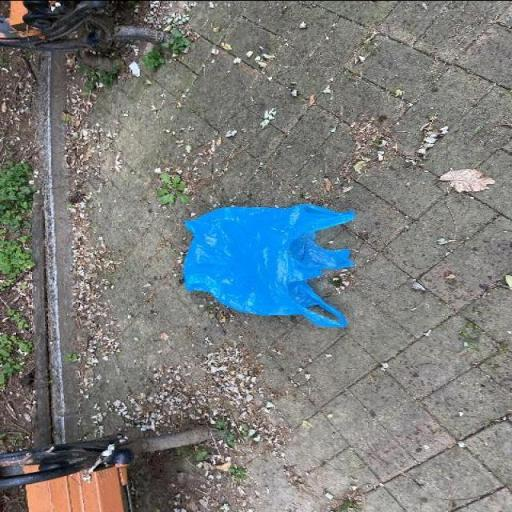plastic-bag: (178, 206, 358, 331)
